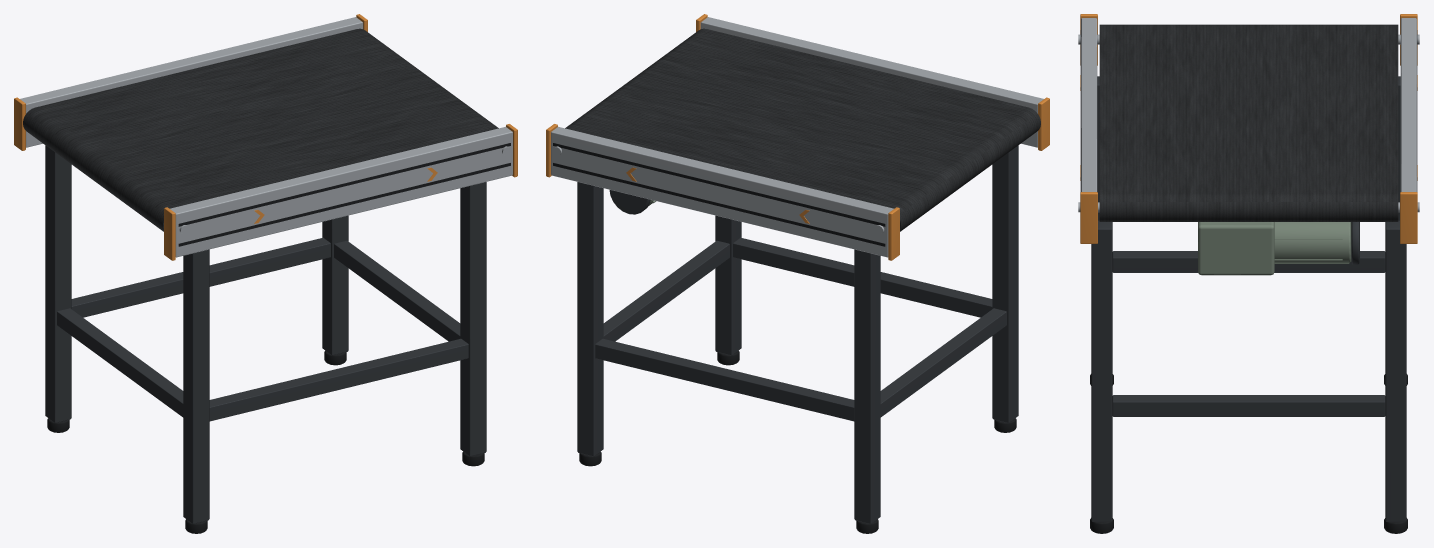
File: Band01_1m.glb
The picture shows the model from 3 angles, left to right: view 1: azimuth 30°, elevation 25°; view 2: azimuth 150°, elevation 25°; view 3: azimuth 270°, elevation 25°; orthographic projection. The views are drawn at different scales.
Visible parts, largest first — view 1: Band01_1m__BeltRubber, Band01_1m__SteelDark, Band01_1m__BareSteel, Band01_1m__Black, Band01_1m__SafetyOrange; view 2: Band01_1m__BeltRubber, Band01_1m__SteelDark, Band01_1m__BareSteel, Band01_1m__Black, Band01_1m__SafetyOrange; view 3: Band01_1m__BeltRubber, Band01_1m__SteelDark, Band01_1m__SteelGreen, Band01_1m__BareSteel, Band01_1m__SafetyOrange, Band01_1m__Black.
Boxes of the visible parts, x1,y1,x2,y2 form: Band01_1m__BeltRubber: (23, 28, 498, 231); Band01_1m__SteelDark: (45, 145, 486, 523); Band01_1m__BareSteel: (20, 17, 512, 257); Band01_1m__Black: (47, 143, 510, 533); Band01_1m__SafetyOrange: (14, 14, 517, 260); Band01_1m__BeltRubber: (565, 28, 1040, 231); Band01_1m__SteelDark: (577, 145, 1018, 523); Band01_1m__BareSteel: (551, 17, 1043, 257); Band01_1m__Black: (553, 143, 1016, 533); Band01_1m__SafetyOrange: (546, 14, 1049, 260); Band01_1m__BeltRubber: (1099, 24, 1398, 221); Band01_1m__SteelDark: (1091, 76, 1406, 521); Band01_1m__SteelGreen: (1198, 222, 1351, 275); Band01_1m__BareSteel: (1078, 18, 1419, 212); Band01_1m__SafetyOrange: (1080, 14, 1417, 243); Band01_1m__Black: (1080, 30, 1417, 533).
Bounding box in the file's own units: 1 × 0.916 × 0.8.
Materials: 6 (1 with a texture image).
